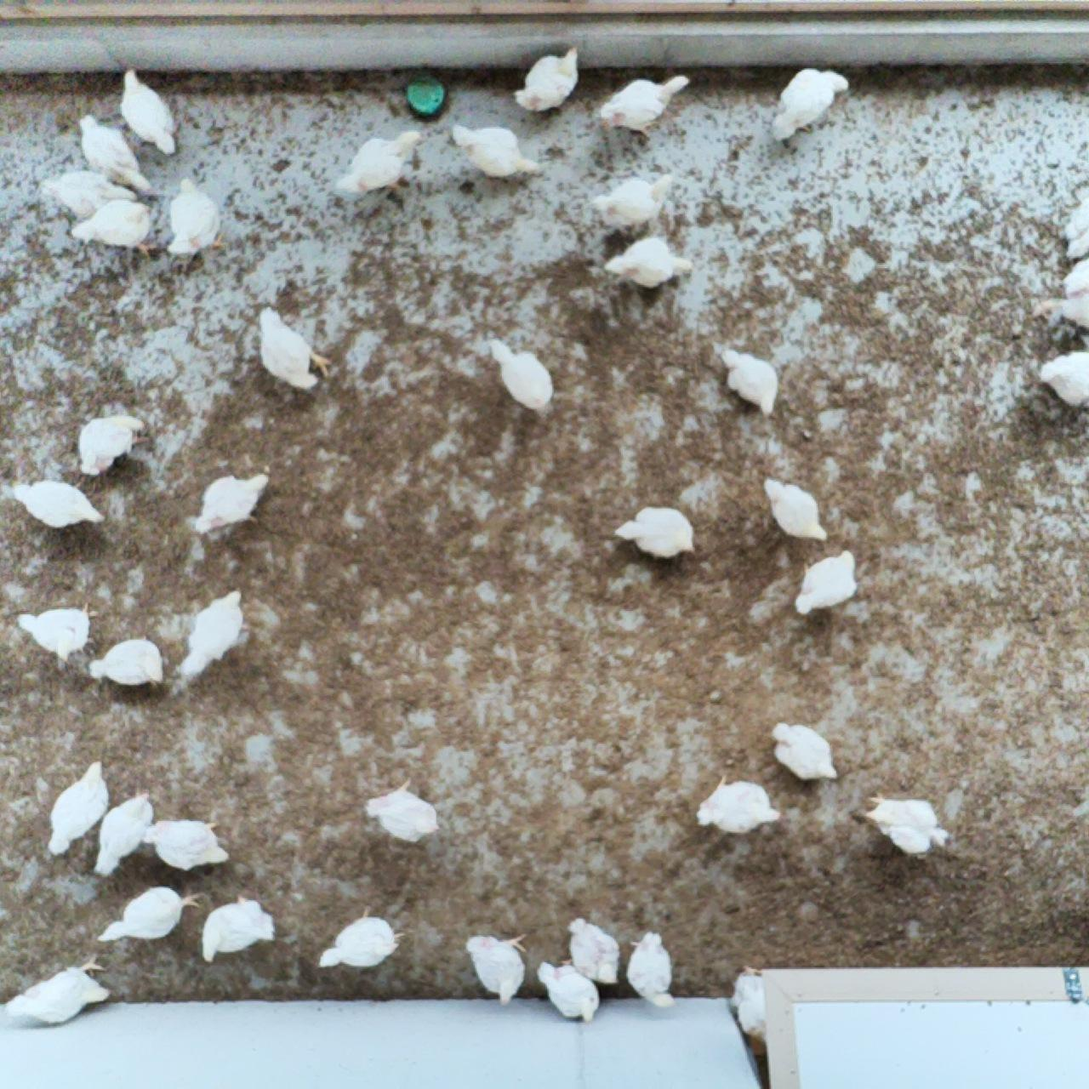chicken: (0, 950, 114, 1029), (42, 758, 115, 859), (254, 303, 333, 396), (71, 110, 157, 195), (314, 901, 413, 974), (768, 64, 855, 147), (596, 73, 696, 144), (445, 117, 545, 187), (177, 584, 249, 681), (336, 129, 428, 204), (93, 884, 204, 946), (91, 788, 165, 881), (859, 787, 953, 859), (689, 771, 785, 838), (196, 891, 283, 964), (120, 64, 185, 160), (482, 333, 557, 416), (68, 198, 164, 262), (511, 43, 587, 123), (13, 600, 103, 667), (600, 231, 695, 294), (192, 468, 275, 539), (37, 163, 138, 221), (361, 776, 441, 849), (462, 926, 532, 1008), (164, 175, 228, 261), (758, 472, 832, 546), (84, 630, 169, 694), (790, 546, 861, 622), (73, 410, 150, 479), (610, 503, 700, 562), (588, 169, 676, 229), (143, 815, 233, 873), (8, 478, 107, 530), (719, 342, 783, 422), (768, 719, 843, 784), (625, 926, 681, 1011), (535, 953, 603, 1023), (729, 963, 777, 1056), (563, 914, 623, 988), (1031, 259, 1089, 329), (1031, 347, 1089, 409), (1059, 187, 1089, 260)
